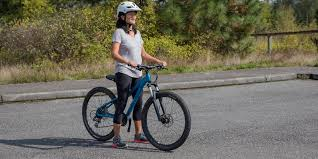Bicycle: (77, 67, 192, 151)
